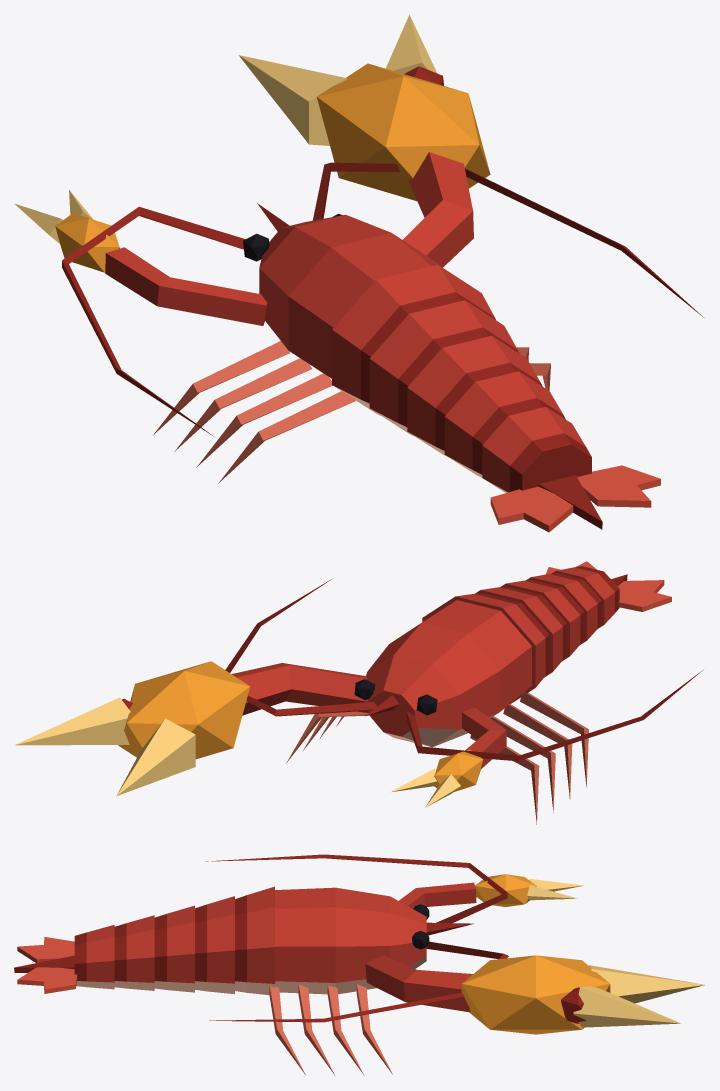
The model's file is pistol-shrimp.glb.
3 views of the same model, one above another, from view 1: azimuth 30°, elevation 25°; view 2: azimuth 150°, elevation 25°; view 3: azimuth 270°, elevation 25° (orthographic). The views are drawn at different scales.
Parts seen in each view (by area): view 1: pistol_shrimp; view 2: pistol_shrimp; view 3: pistol_shrimp.
Part boxes in pixels (box(x1,y1,x2,y2)): pistol_shrimp: box(14, 14, 703, 532); pistol_shrimp: box(14, 561, 703, 824); pistol_shrimp: box(14, 854, 705, 1075).
Size of the model in its own units: 3.56 by 1.18 by 5.7.
